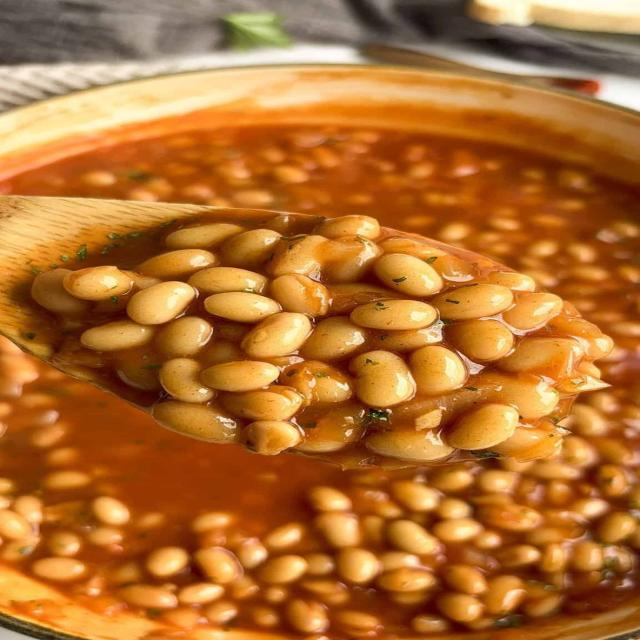beans: (153, 401, 239, 444), (350, 351, 415, 407), (296, 403, 365, 452), (447, 404, 519, 450), (241, 312, 312, 358), (499, 338, 582, 377), (280, 361, 353, 403), (374, 254, 443, 297), (127, 281, 196, 324), (366, 428, 453, 461), (220, 386, 304, 420), (301, 317, 366, 360), (409, 345, 466, 394), (447, 319, 513, 361), (434, 284, 513, 319), (322, 237, 382, 283), (495, 375, 559, 418), (350, 300, 437, 330), (31, 269, 89, 314), (271, 275, 330, 317), (267, 236, 326, 278), (136, 249, 218, 279), (159, 358, 214, 402), (63, 266, 133, 300), (155, 316, 213, 357), (221, 229, 280, 269), (492, 427, 561, 461), (201, 361, 279, 391), (80, 320, 155, 351), (328, 283, 402, 314), (205, 292, 280, 322), (188, 267, 267, 294), (503, 293, 562, 329), (244, 420, 302, 455), (165, 224, 244, 249), (372, 324, 441, 352), (114, 351, 161, 391), (478, 503, 543, 531), (194, 547, 242, 584), (387, 520, 439, 554), (482, 575, 526, 615), (314, 512, 361, 548), (316, 215, 379, 239), (337, 548, 379, 584), (391, 480, 439, 511), (119, 584, 178, 609), (379, 237, 446, 259), (286, 599, 329, 633), (377, 568, 435, 592), (437, 593, 484, 622), (258, 555, 306, 583), (300, 579, 349, 606), (32, 557, 86, 581), (334, 610, 380, 638), (147, 547, 189, 577), (443, 565, 486, 594), (598, 512, 638, 543), (432, 518, 482, 542), (263, 523, 305, 551), (430, 467, 473, 493), (308, 486, 352, 511), (201, 341, 245, 366), (92, 497, 130, 525), (597, 465, 629, 497), (178, 583, 224, 605), (477, 469, 519, 493), (538, 542, 569, 574), (571, 541, 604, 571), (235, 539, 268, 569), (42, 470, 91, 490), (497, 545, 540, 567), (0, 510, 31, 539), (523, 594, 562, 617), (488, 272, 535, 291), (204, 600, 238, 626), (12, 495, 42, 524), (569, 498, 610, 519), (191, 512, 234, 532), (47, 531, 81, 556), (380, 551, 420, 571), (435, 498, 473, 518), (411, 614, 449, 634), (87, 527, 123, 547), (249, 606, 279, 628), (305, 553, 334, 575), (273, 165, 308, 183), (80, 170, 117, 186), (473, 530, 502, 549)
